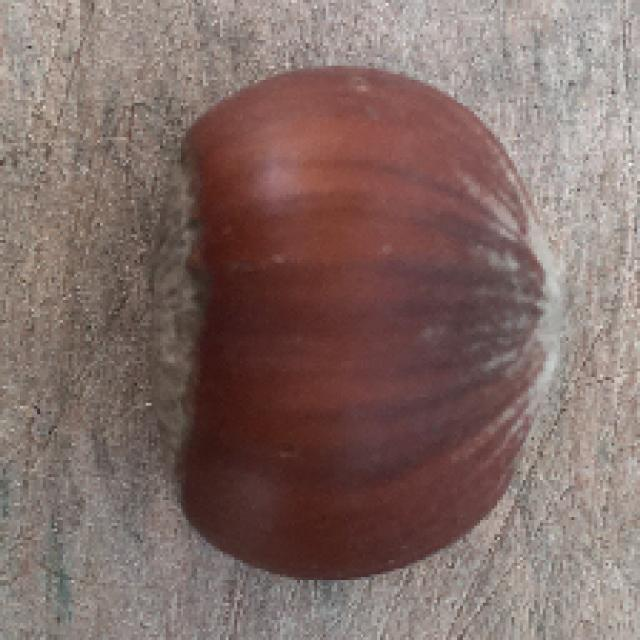qualityHazelnut: (123, 62, 567, 580)
